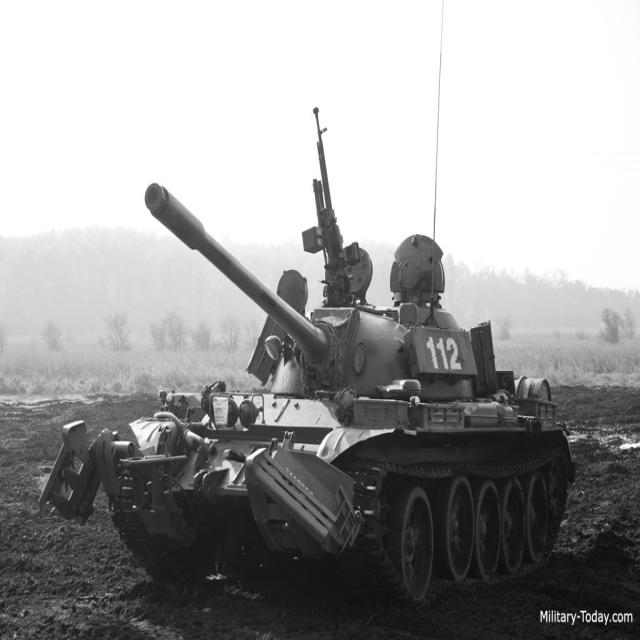Tank: (43, 117, 580, 588)
